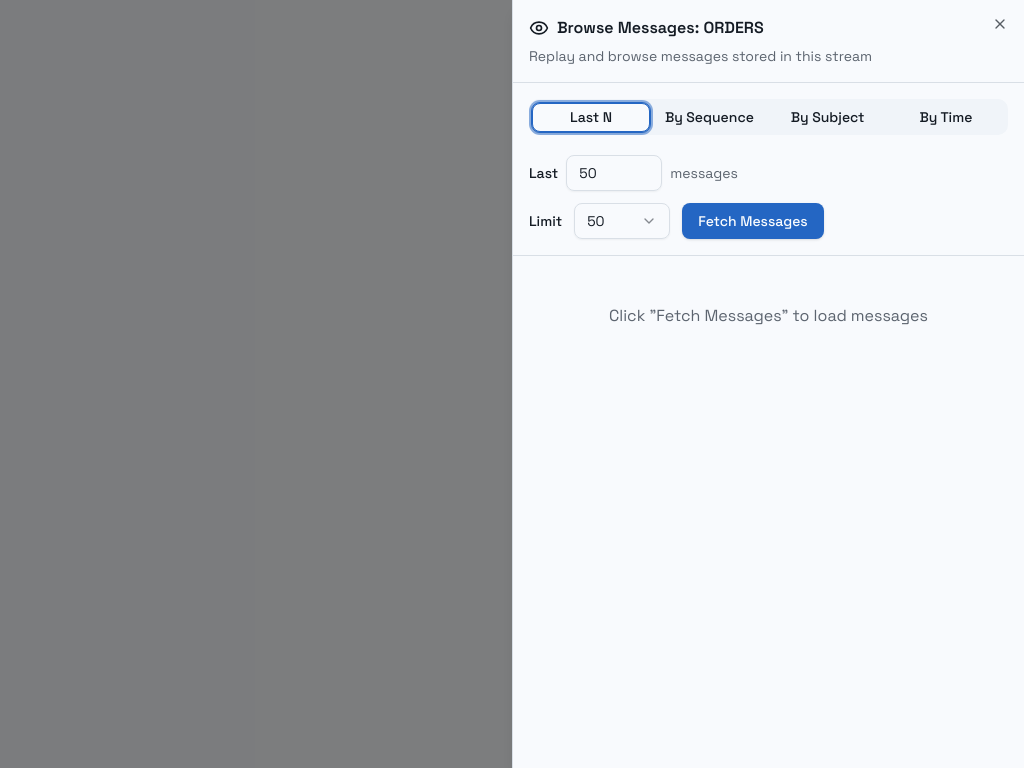
Test: MessageBrowser data preview › leaves a short payload untouched
This screenshot has width=1024, height=768.
Step 1. Click the button "Fetch Messages" → (753, 221), box left=682, top=203, right=824, bottom=239
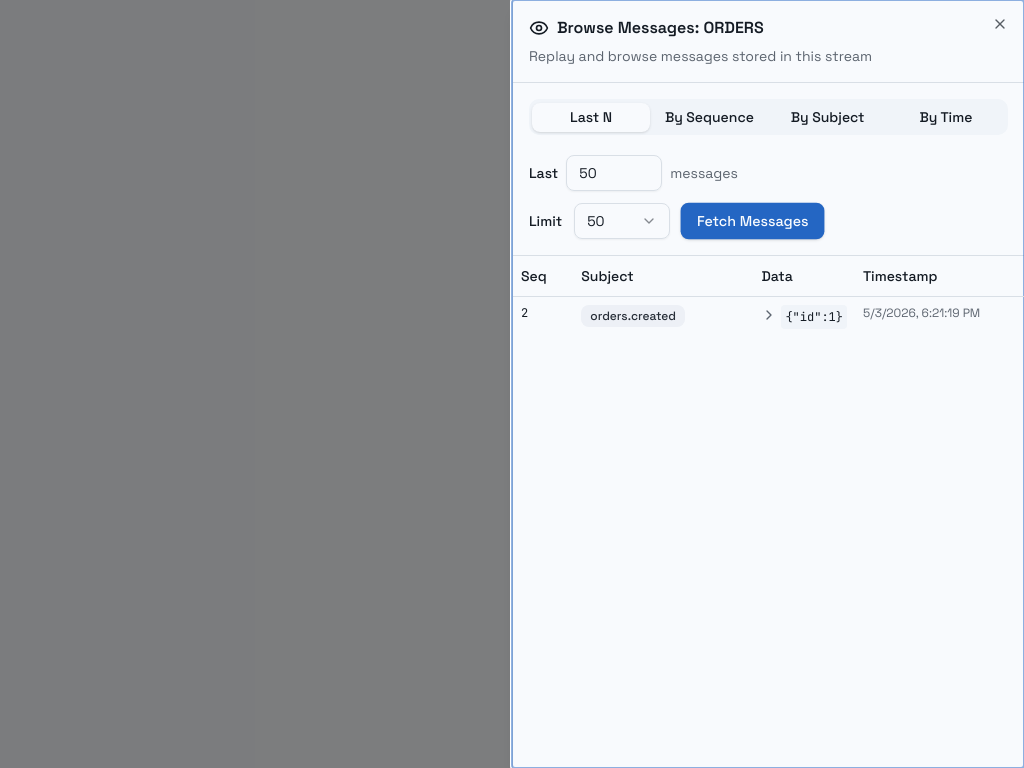
Check: the text with test id "message-preview-2" reads "{\"id\":1}", box left=785, top=308, right=843, bottom=324
